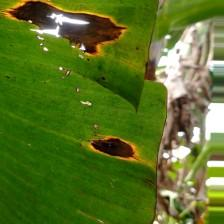cordana: (0, 0, 168, 224)
